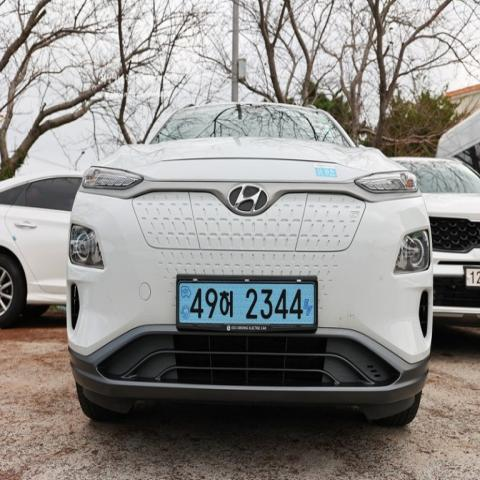LP: (170, 271, 326, 340)
